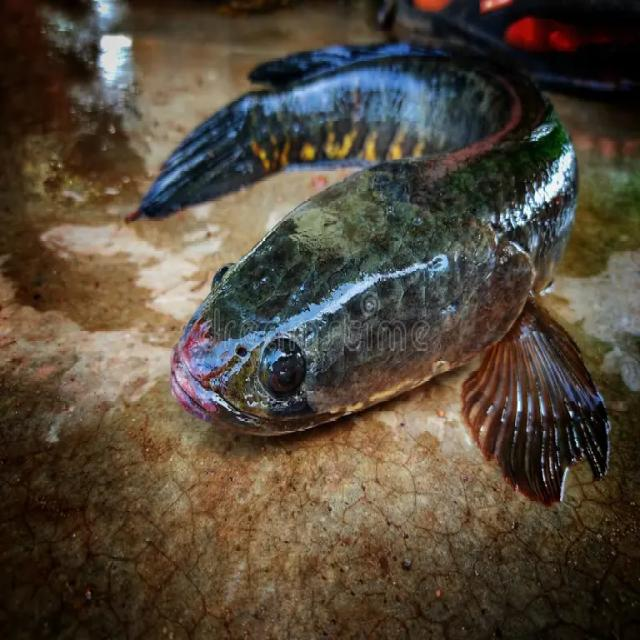Murrel or Snake Head: (128, 38, 608, 502)
